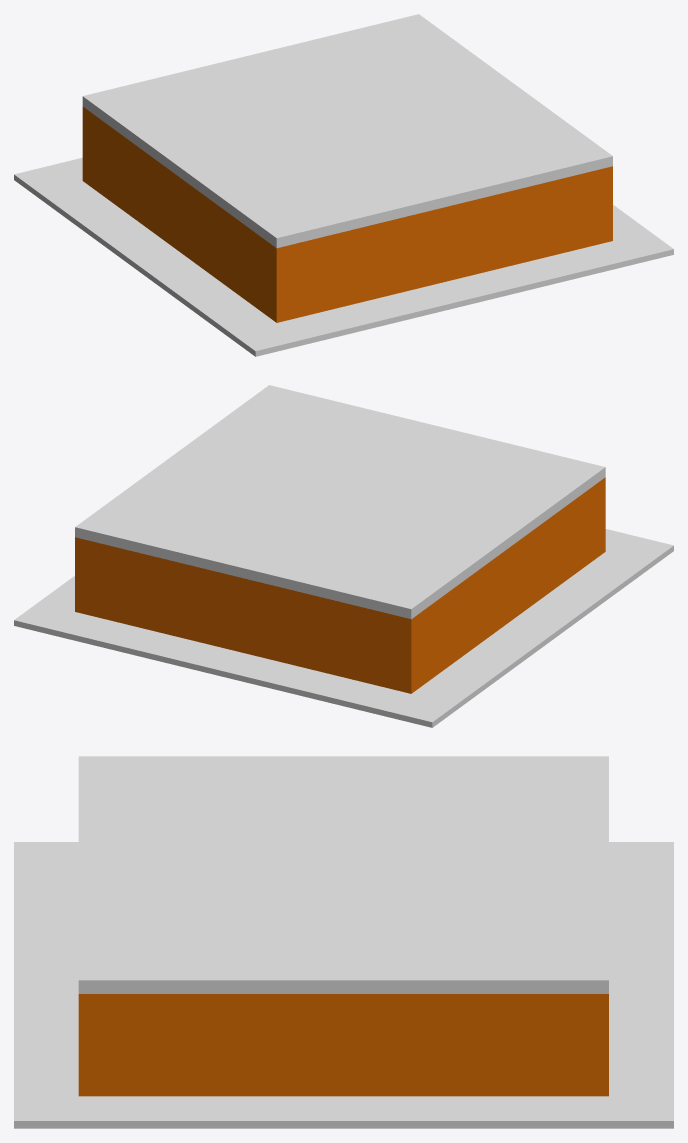
The model's file is CAKE_C_1L_RENAME.glb.
3 renders of one model, top to bottom at view 1: azimuth 30°, elevation 25°; view 2: azimuth 150°, elevation 25°; view 3: azimuth 270°, elevation 25°, orthographic. The views are drawn at different scales.
Parts seen in each view (by area): view 1: CREAM, BATTER, PLATE; view 2: CREAM, BATTER, PLATE; view 3: CREAM, PLATE, BATTER.
Boxes of the visible parts, left/top/right/bottom form: CREAM: left=82, top=14, right=612, bottom=248; BATTER: left=82, top=106, right=612, bottom=322; PLATE: left=14, top=157, right=673, bottom=356; CREAM: left=75, top=385, right=605, bottom=619; BATTER: left=75, top=477, right=605, bottom=693; PLATE: left=14, top=529, right=673, bottom=727; CREAM: left=78, top=756, right=608, bottom=993; PLATE: left=14, top=842, right=673, bottom=1128; BATTER: left=78, top=994, right=608, bottom=1096.
Size of the model in its own units: 2 by 0.4129 by 2.
